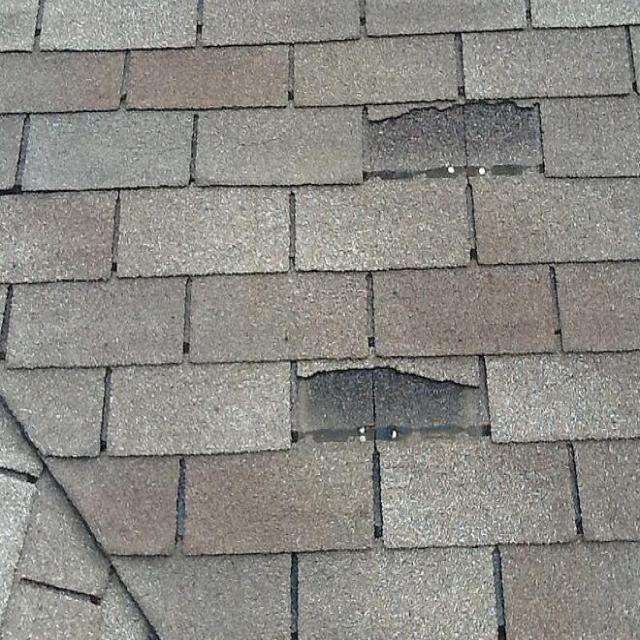damage: (276, 346, 514, 454), (352, 97, 552, 184)
